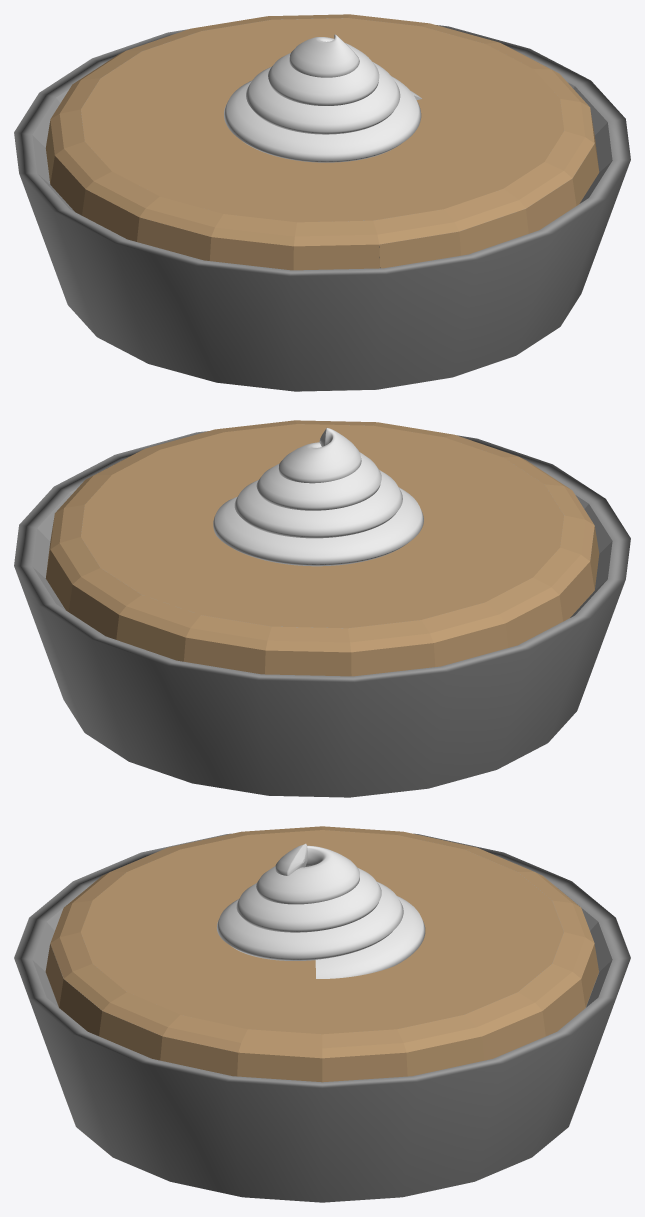
The model's file is PIE.fbx.
The picture shows the model from 3 angles, top to bottom: view 1: azimuth 30°, elevation 25°; view 2: azimuth 150°, elevation 25°; view 3: azimuth 270°, elevation 25°; orthographic projection.
Parts seen in each view (by area): view 1: PIE; view 2: PIE; view 3: PIE.
Part boxes in pixels (box(x1,y1,x2,y2)): PIE: box(14, 14, 630, 391); PIE: box(14, 420, 630, 797); PIE: box(14, 826, 630, 1202).
Size of the model in its own units: 32.05 by 14.43 by 32.05.
